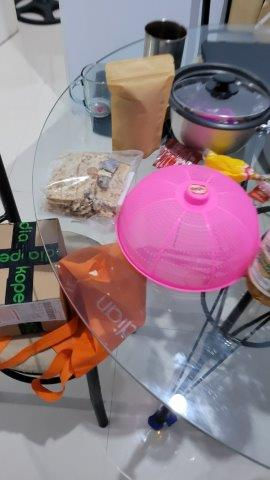plastik: (48, 149, 145, 216)
